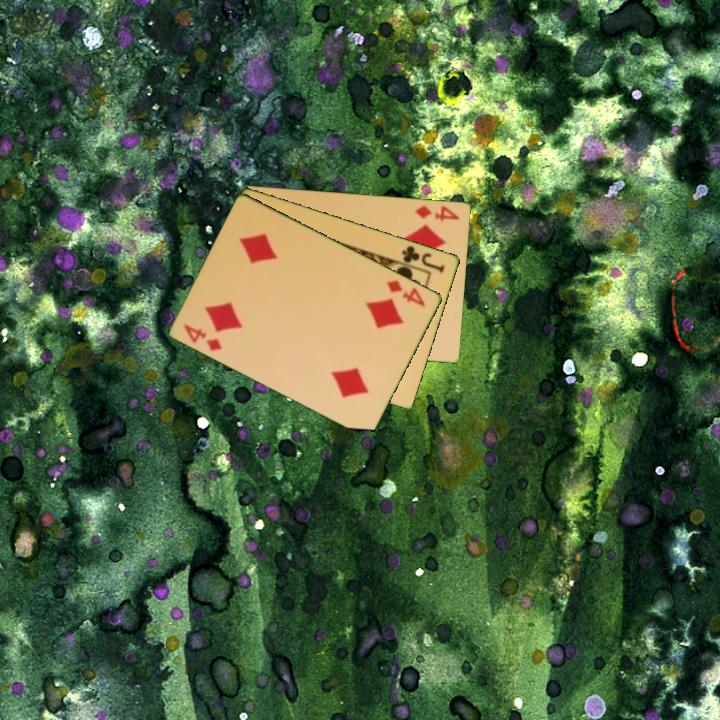4d: (180, 320, 225, 354), (383, 276, 428, 309), (411, 202, 463, 224)
Jc: (399, 242, 448, 276)
